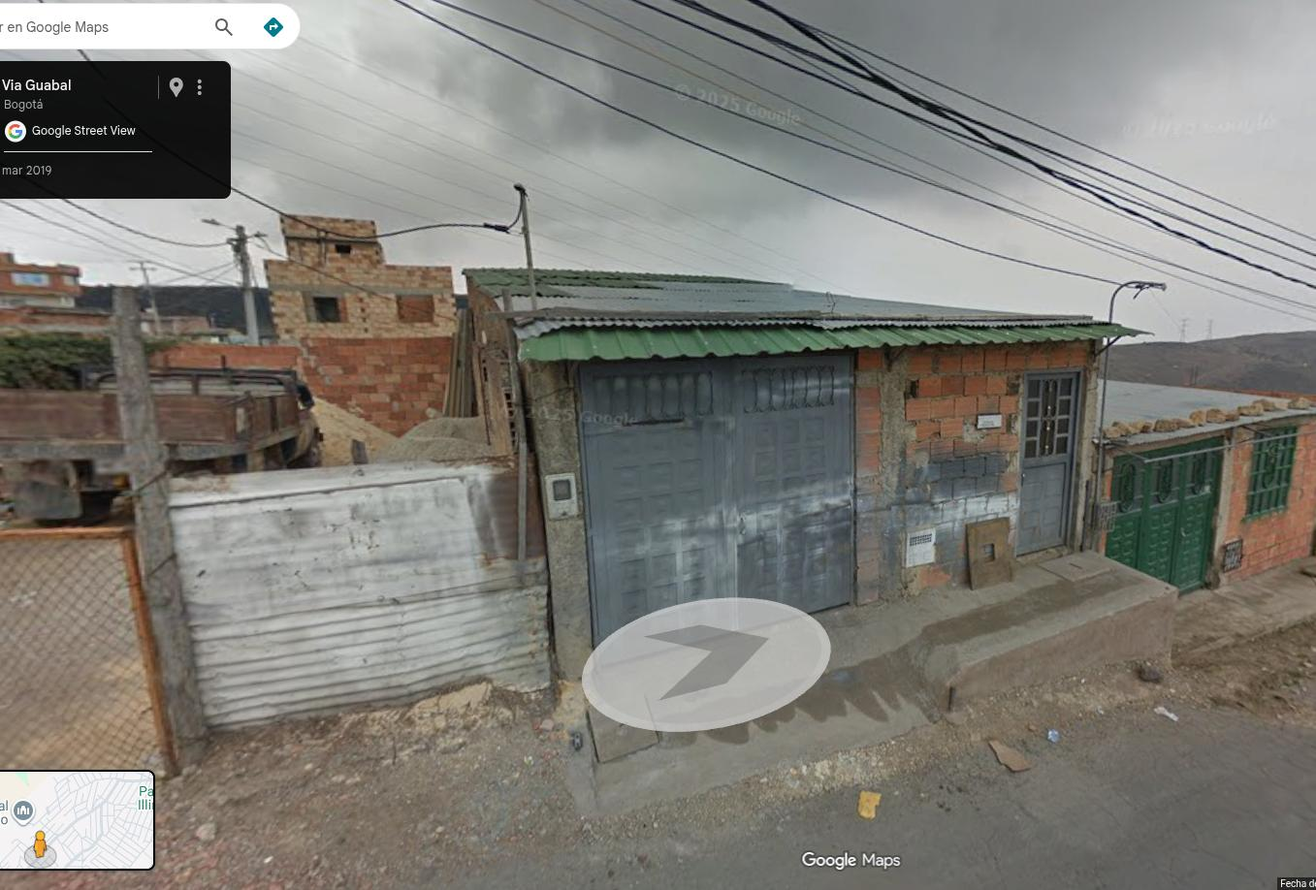casa: (467, 269, 1144, 677), (1094, 378, 1315, 593)
